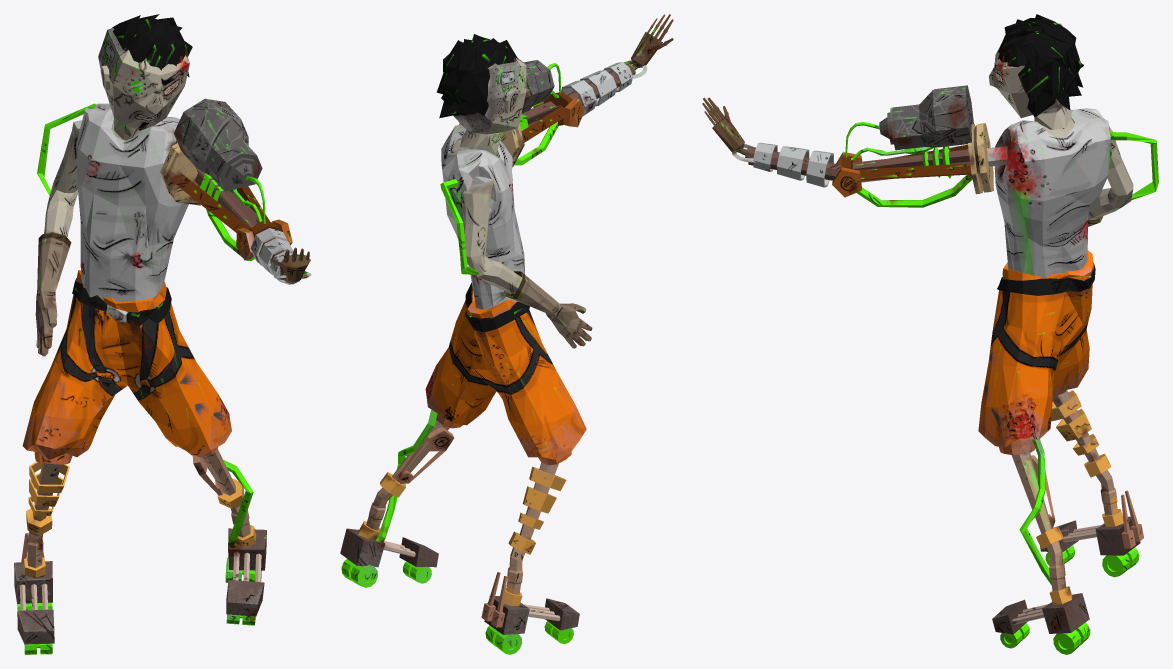
Rendered from CyborgFINALAnimation_000019.obj.
3 views of the same model, side by side, from view 1: azimuth 30°, elevation 25°; view 2: azimuth 150°, elevation 25°; view 3: azimuth 270°, elevation 25° (orthographic). The views are drawn at different scales.
Parts seen in each view (by area): view 1: CyborgMesh_Cube.002; view 2: CyborgMesh_Cube.002; view 3: CyborgMesh_Cube.002.
Part boxes in pixels (x1=…): CyborgMesh_Cube.002: x1=14, y1=14, x2=311, y2=654; CyborgMesh_Cube.002: x1=340, y1=14, x2=673, y2=654; CyborgMesh_Cube.002: x1=702, y1=14, x2=1158, y2=654.
Size of the model in its own units: 4.01 by 9.48 by 6.68.
